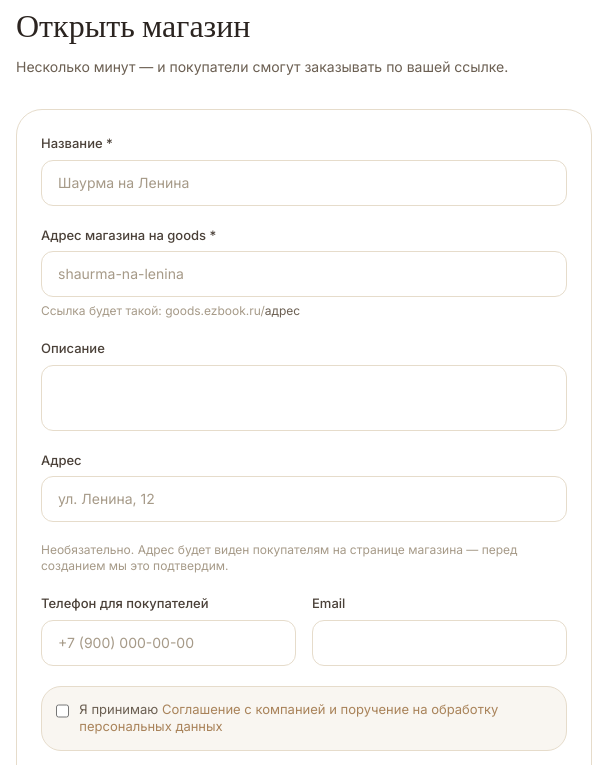
it: CreateShopPage › normalizes what is typed into the address field
Type "My Shop!" into the field labelled "Адрес магазина на goods *". click: (304, 274)
box: [41,251,567,297]
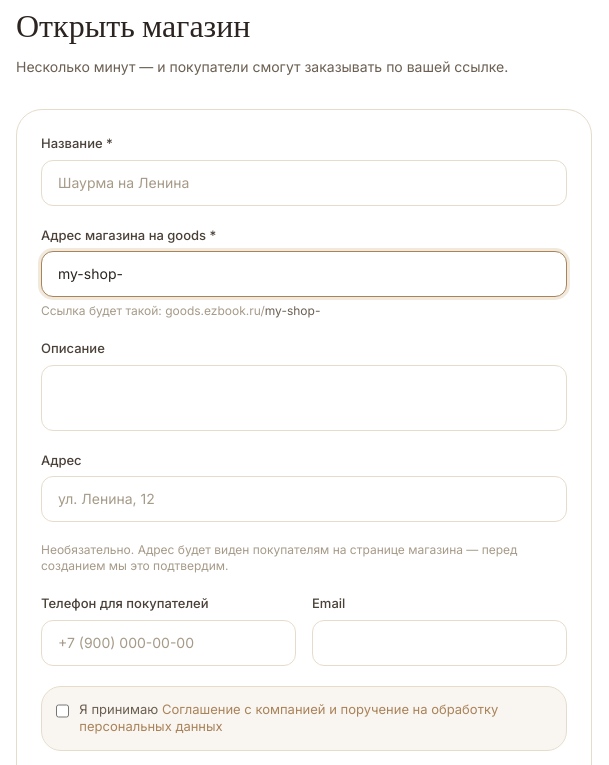
Now the field labelled "Адрес магазина на goods *" holds "my-shop-", box [41,251,567,297]
